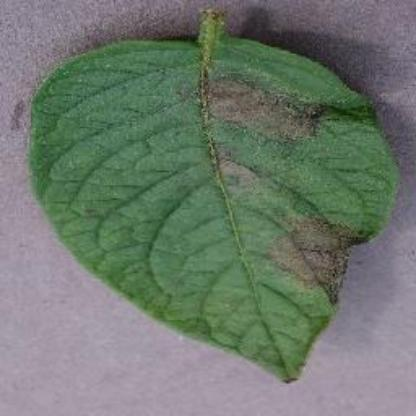Late-Blight: (22, 9, 400, 382)
